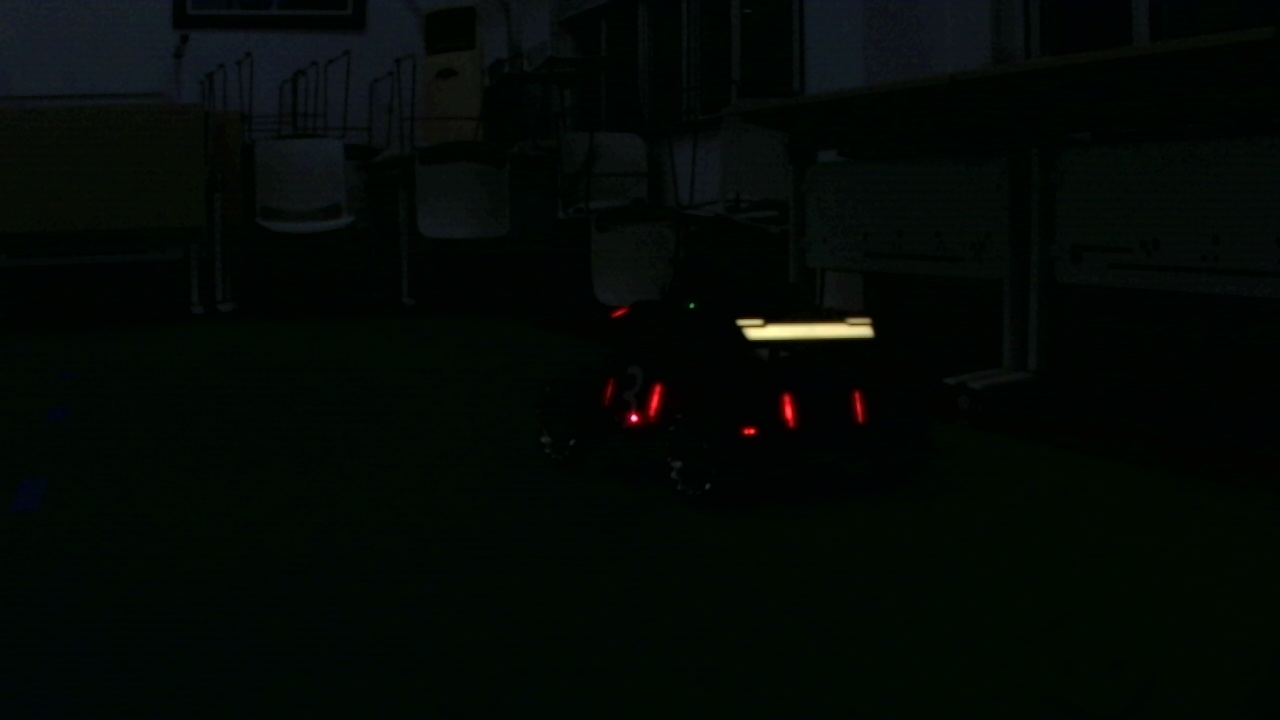lamp: (644, 376, 663, 422), (780, 387, 798, 428), (850, 379, 864, 422)
notpair1: (646, 377, 799, 432)
pair1: (778, 383, 869, 444)
